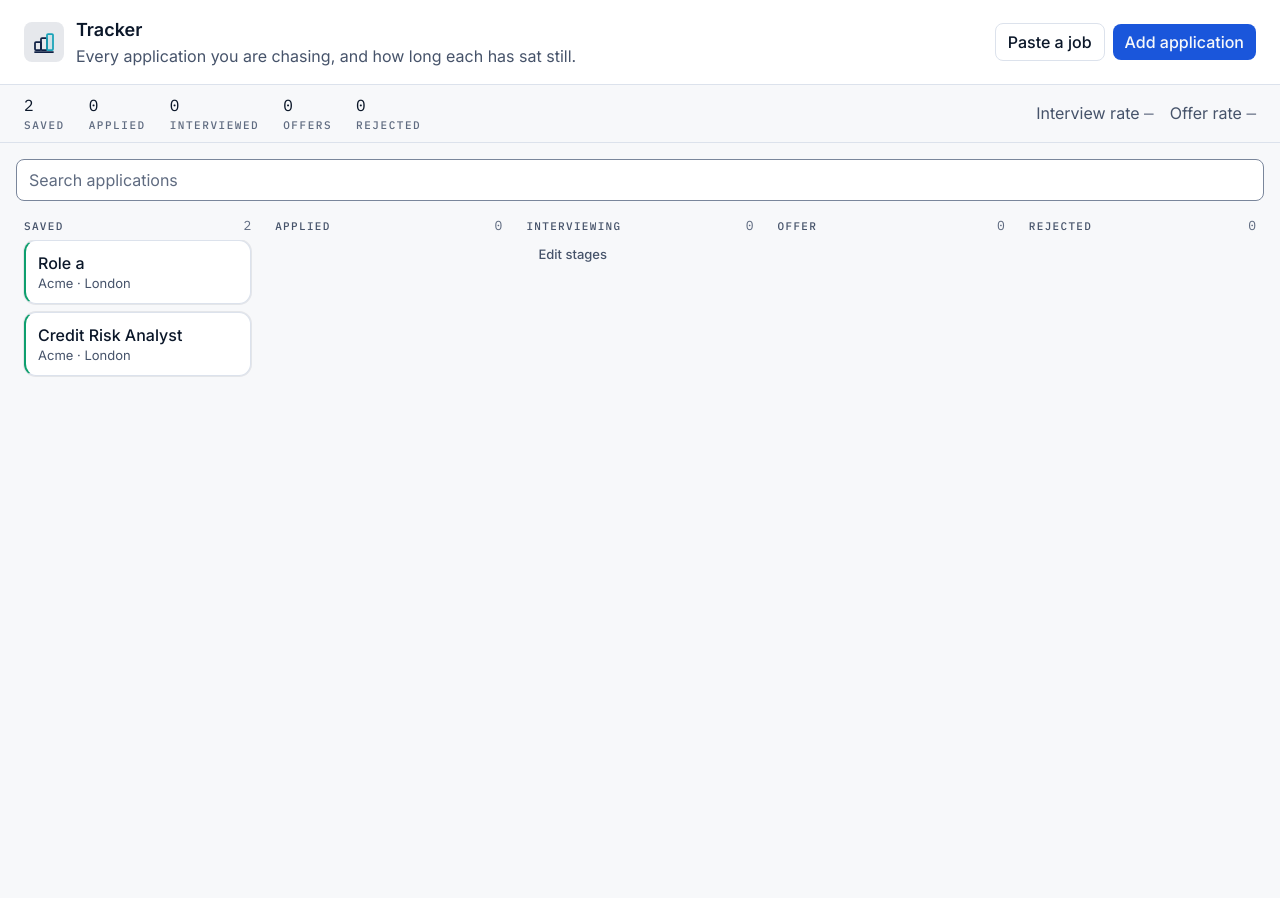
Test: from an application to the rest of the flow › adds no primary button: the board keeps exactly one
Expected: the element with test id "tracker-column-saved" is shown, [16,208,259,384]
Click the button with test id "tracker-card-a" at coordinates (138, 272), box [24,240,251,304]
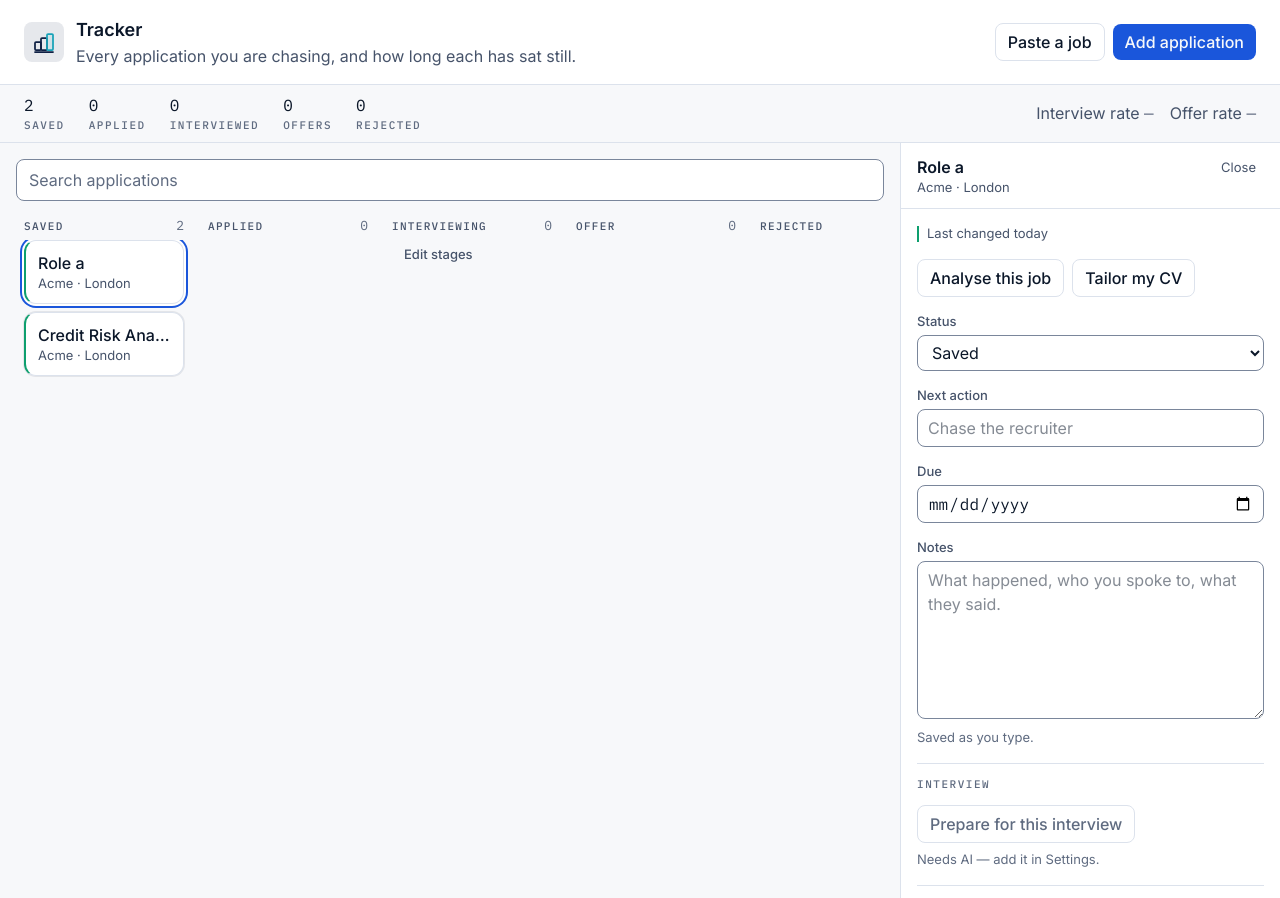
Now the button with test id "detail-analyse" is shown, box [917,260,1064,298]
